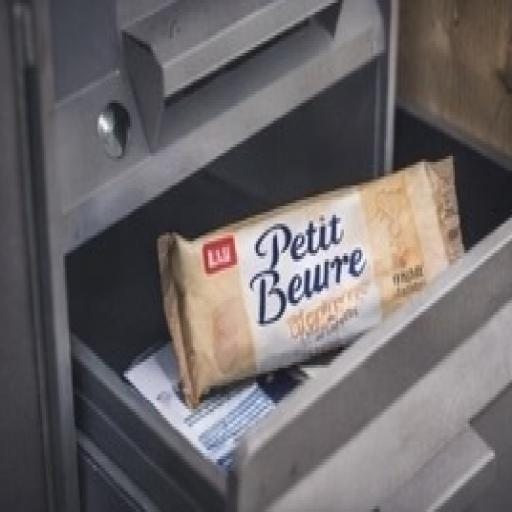petit-beurre: (138, 129, 512, 417)
